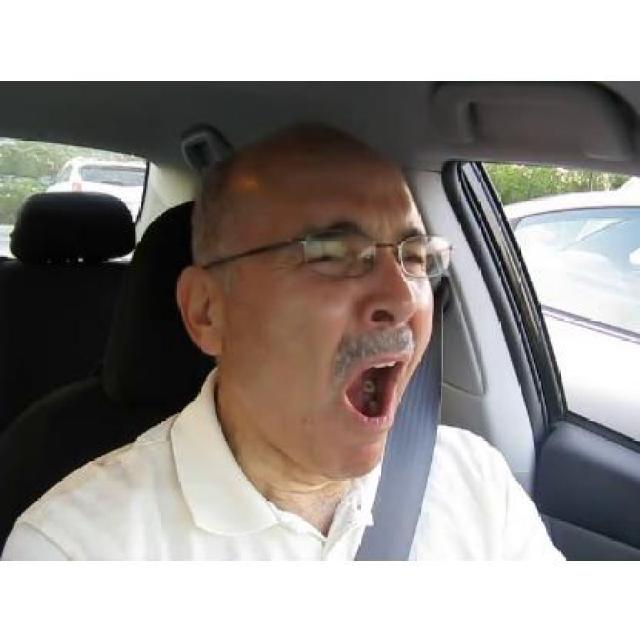inattentif: (176, 116, 433, 478)
